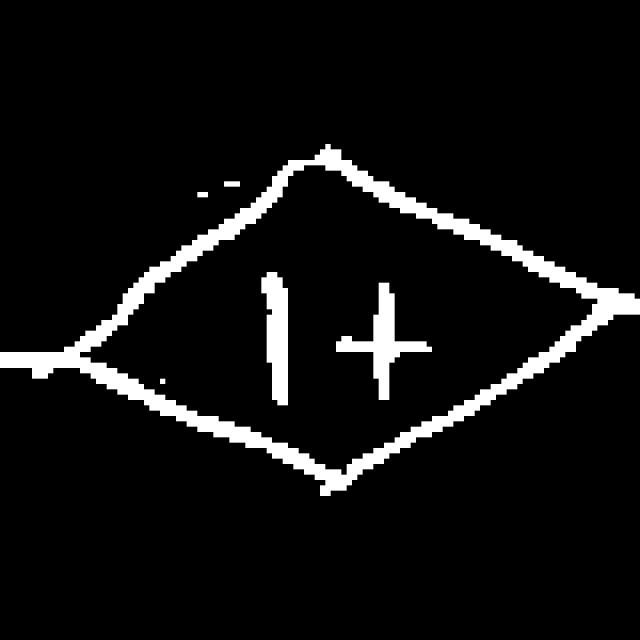dependant_voltage: (56, 137, 629, 519)
